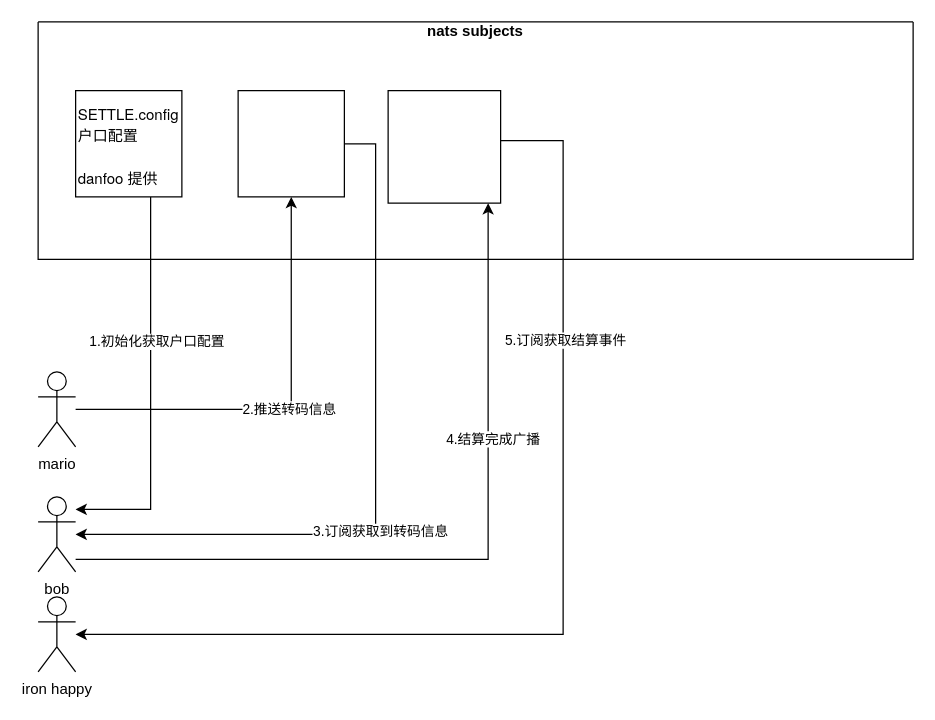
Some shapes in this 935 by 720 pixel diagram are drawn without their labels. The shapes that lost their labels are listed below. From the top down, each one's centre as x and y in pixels, then its label:
point 290,143: convertChips 转码主题 mario 提供
point 444,146: SETTLE.settled 结算广播 bob提供
